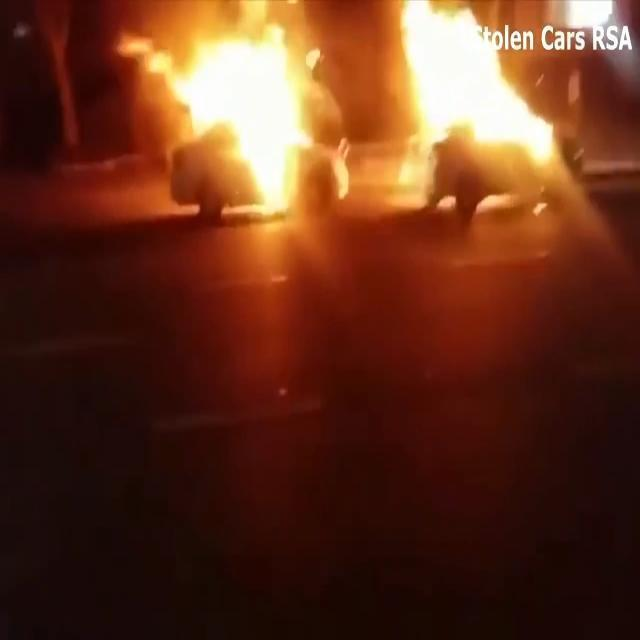fire: (190, 15, 310, 217), (404, 3, 556, 152)
